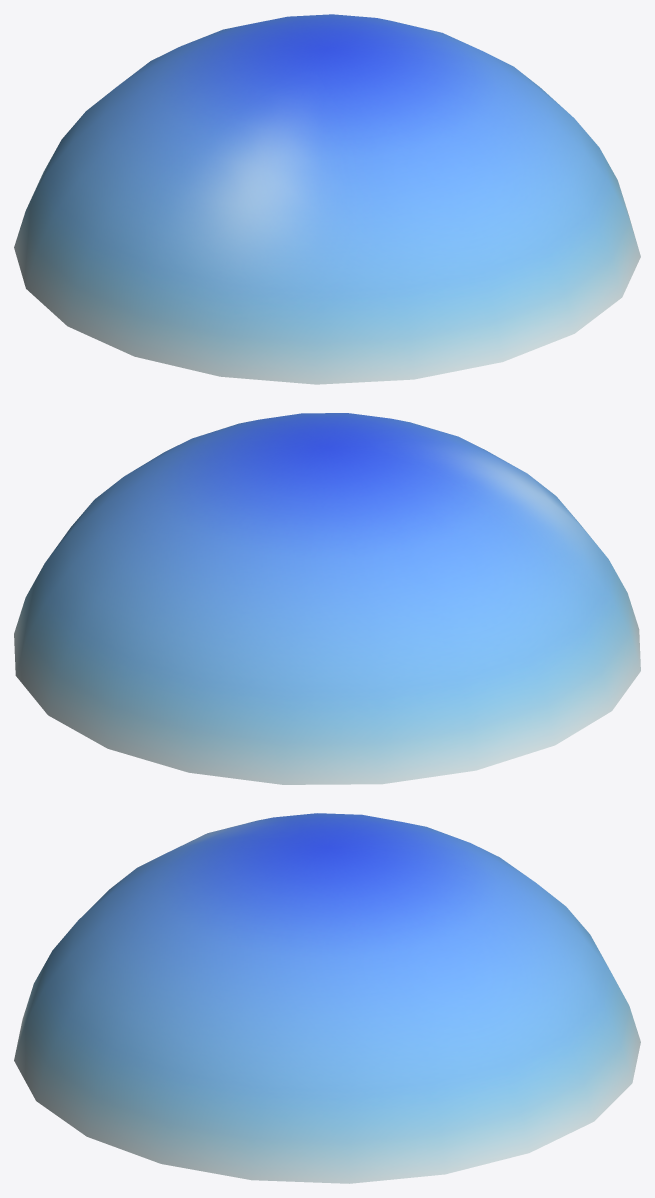
The model's file is Sky noon - 01.fbx.
The picture shows the model from 3 angles, top to bottom: view 1: azimuth 30°, elevation 25°; view 2: azimuth 150°, elevation 25°; view 3: azimuth 270°, elevation 25°; orthographic projection.
Parts seen in each view (by area): view 1: sky; view 2: sky; view 3: sky.
Boxes of the visible parts, box(x1,y1,x2,y2) form: sky: box(14, 14, 640, 384); sky: box(14, 413, 640, 784); sky: box(14, 813, 640, 1183).
Size of the model in its own units: 985 by 356 by 985.
